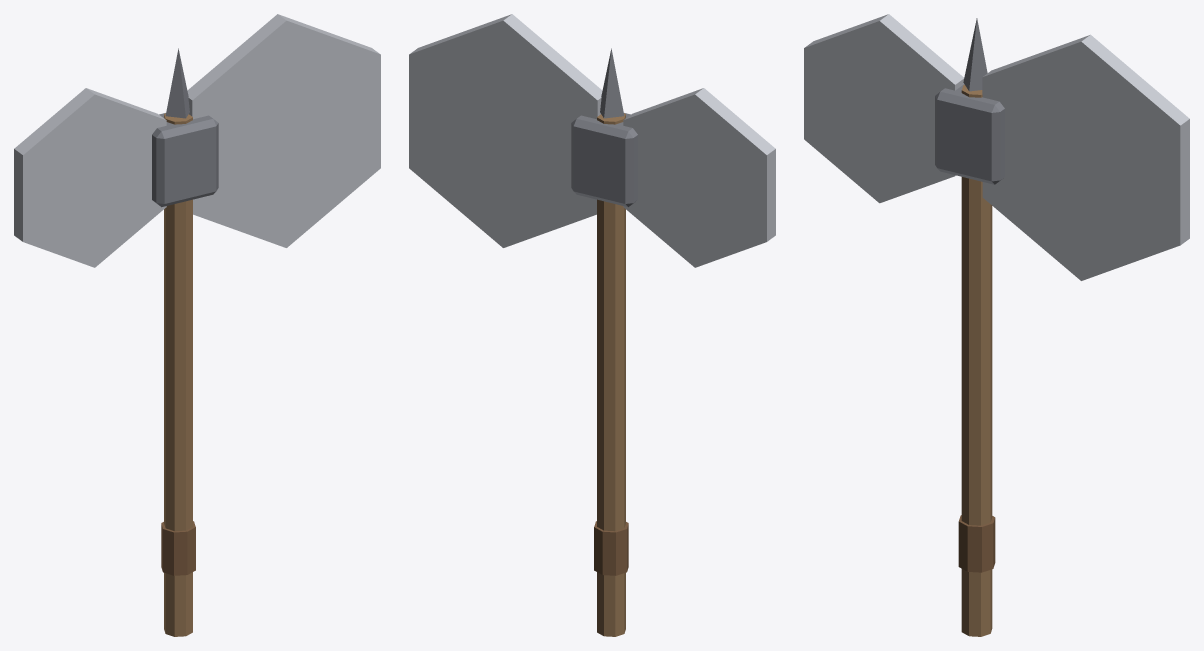
The model's file is w_axe.glb.
3 renders of one model, left to right at view 1: azimuth 30°, elevation 25°; view 2: azimuth 150°, elevation 25°; view 3: azimuth 330°, elevation 25°, orthographic. The views are drawn at different scales.
Parts seen in each view (by area): view 1: w_axe; view 2: w_axe; view 3: w_axe.
Part boxes in pixels (x1=…): w_axe: x1=14, y1=14, x2=380, y2=636; w_axe: x1=409, y1=14, x2=775, y2=636; w_axe: x1=804, y1=14, x2=1189, y2=636.
Bounding box in the file's own units: 0.6904 × 1.09 × 0.08.
